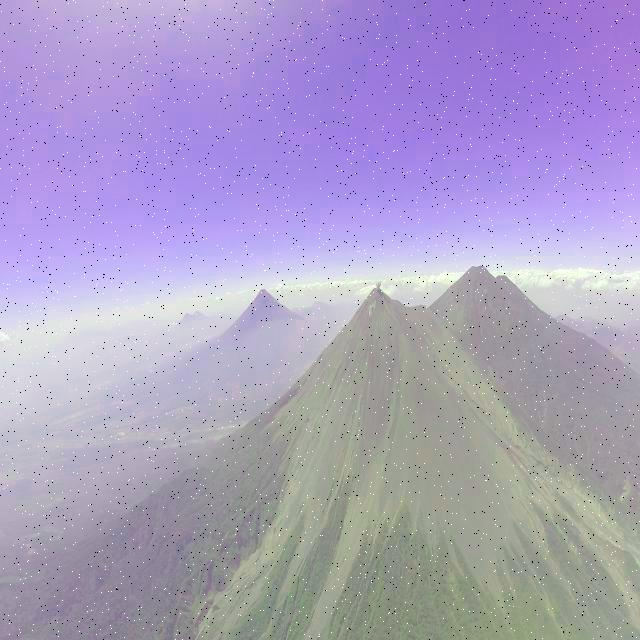Summit: (352, 284, 406, 318)
